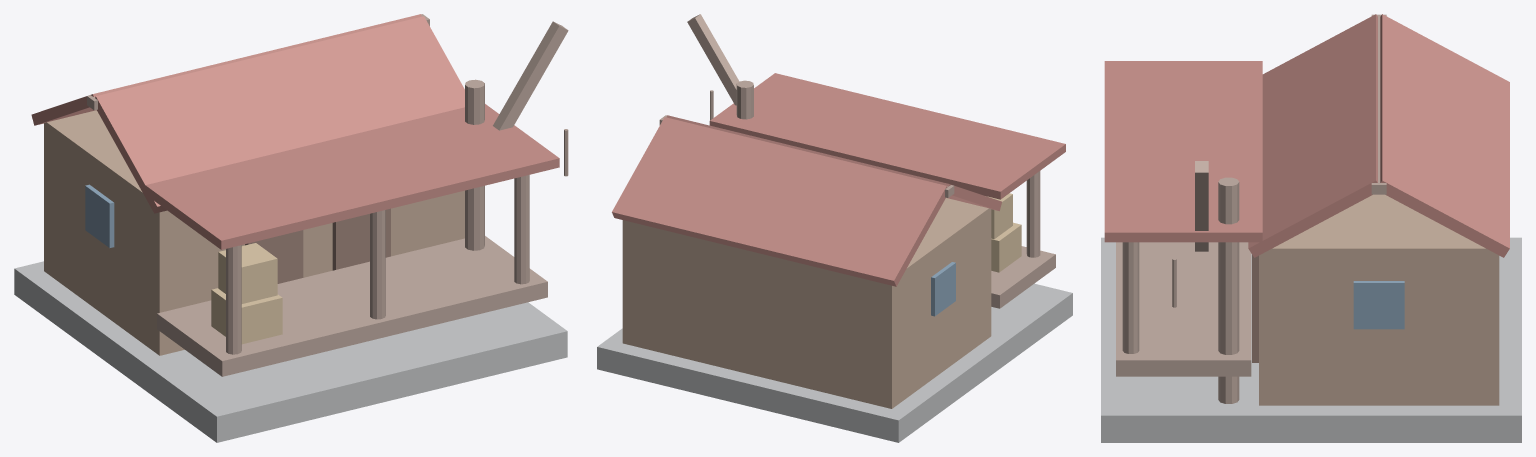
The model's file is TRADING_POST.glb.
3 views of the same model, side by side, from view 1: azimuth 30°, elevation 25°; view 2: azimuth 150°, elevation 25°; view 3: azimuth 270°, elevation 25° (orthographic). The views are drawn at different scales.
Parts seen in each view (by area): view 1: TRADING_POST; view 2: TRADING_POST; view 3: TRADING_POST.
Part boxes in pixels (bbox=[...]): TRADING_POST: bbox=[14, 14, 568, 442]; TRADING_POST: bbox=[597, 14, 1072, 442]; TRADING_POST: bbox=[1101, 14, 1521, 442].
Bounding box in the file's own units: 3.17 × 2.21 × 2.8.
